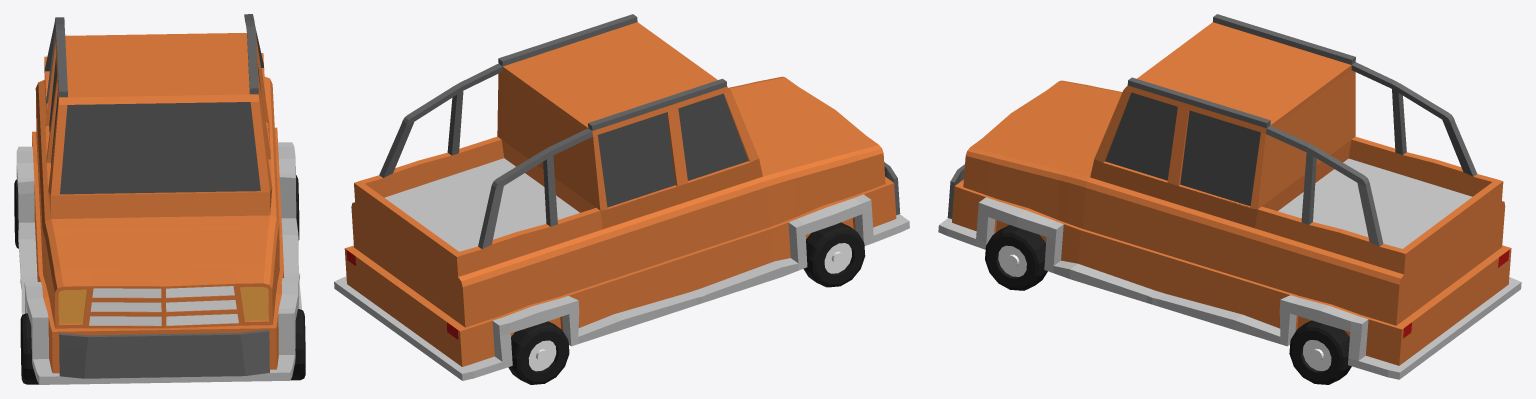
The model's file is Car.fbx.
3 renders of one model, left to right at view 1: azimuth 30°, elevation 25°; view 2: azimuth 150°, elevation 25°; view 3: azimuth 270°, elevation 25°, orthographic. The views are drawn at different scales.
Visible parts, largest first — view 1: M_Car; view 2: M_Car; view 3: M_Car.
Part boxes in pixels (left/top/right/bottom): M_Car: left=14, top=14, right=305, bottom=384; M_Car: left=334, top=14, right=909, bottom=384; M_Car: left=938, top=14, right=1521, bottom=384.
Size of the model in its own units: 131 by 74.96 by 162.
Materials: 1 (1 with a texture image).
